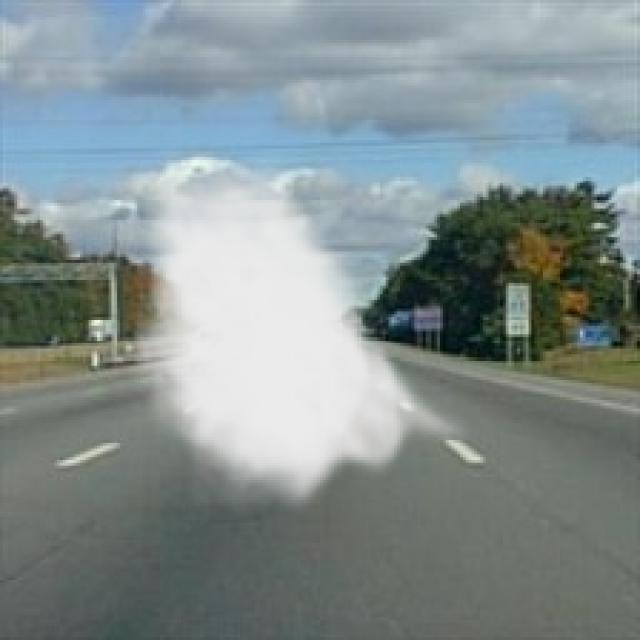smoke: (126, 146, 474, 517)
